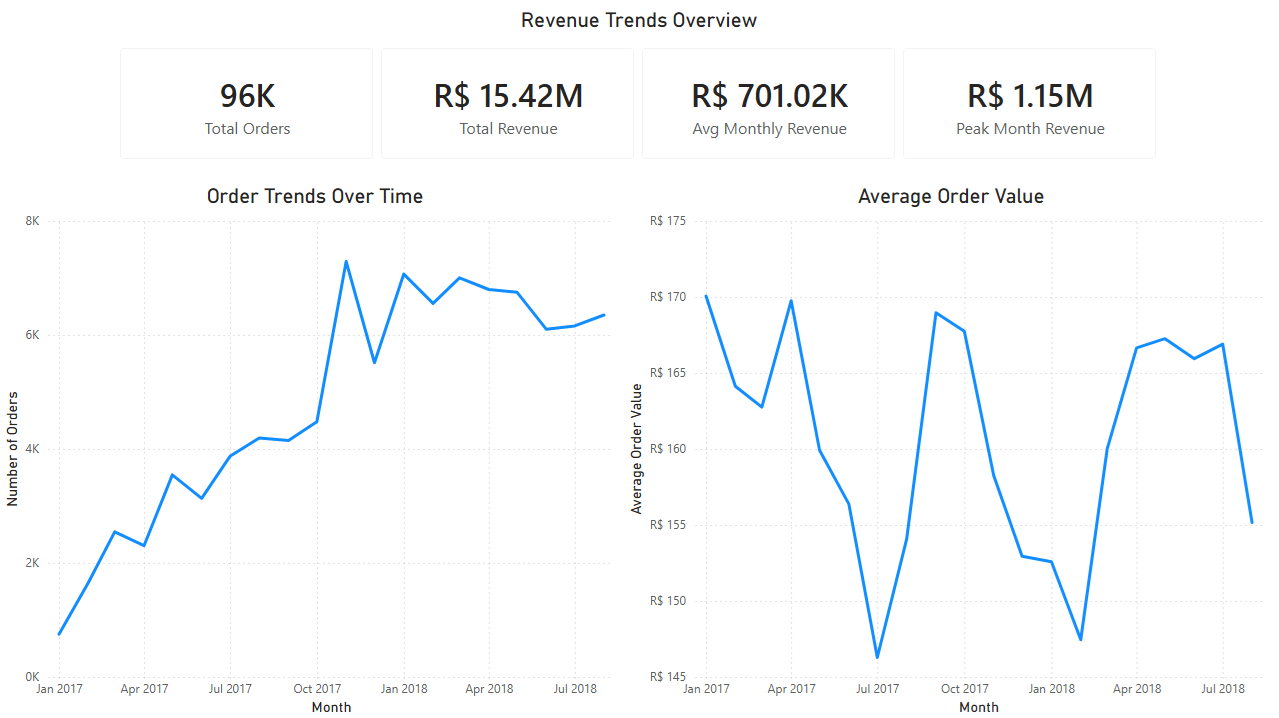

The page's visual inventory and layout, read from the dashboard file:
{"tool":"powerbi","page":{"name":"Revenue Trends","canvas":[1280,720],"ordinal":2},"visuals":[{"type":"lineChart","title":"Order Trends Over Time","fields":{"Category":["monthly_revenue.order_month"],"Y":["Sum(monthly_revenue.num_orders)"]},"box":[0,176,632,544],"z":0},{"type":"cardVisual","title":"Revenue Trends Overview","fields":{"Data":["Sum(monthly_revenue.num_orders)","Sum(monthly_revenue.revenue)","monthly_revenue.Avg Monthly Revenue","monthly_revenue.Peak Month Revenue"]},"box":[104,0,1072,176],"z":1000},{"type":"lineChart","title":"Average Order Value","fields":{"Y":["monthly_revenue.Avg Order Value"],"Category":["monthly_revenue.order_month.Variation.Date Hierarchy.Year","monthly_revenue.order_month.Variation.Date Hierarchy.Month"]},"box":[624,176,656,544],"z":2000}]}

Visuals, with their boxes in screenshot pixels (x1, y1, x2, y2), scaled from the page's 1280x720 canvas onto the 1279x718 screenshot:
"Order Trends Over Time" lineChart: select_region(0, 176, 632, 717)
"Revenue Trends Overview" cardVisual: select_region(104, 0, 1175, 176)
"Average Order Value" lineChart: select_region(624, 176, 1278, 717)
